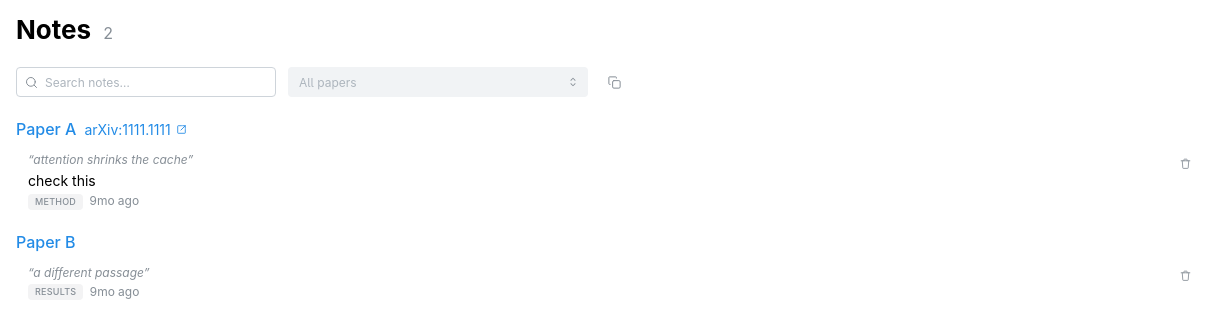
Scenario: NotesPage › filters by text across snippet and note
Expected: the link "Paper A" is shown, [16,117,76,142]
Type "check this" into the field labelled "Search notes".
click(146, 82); type("check this")  # box [16,67,276,97]
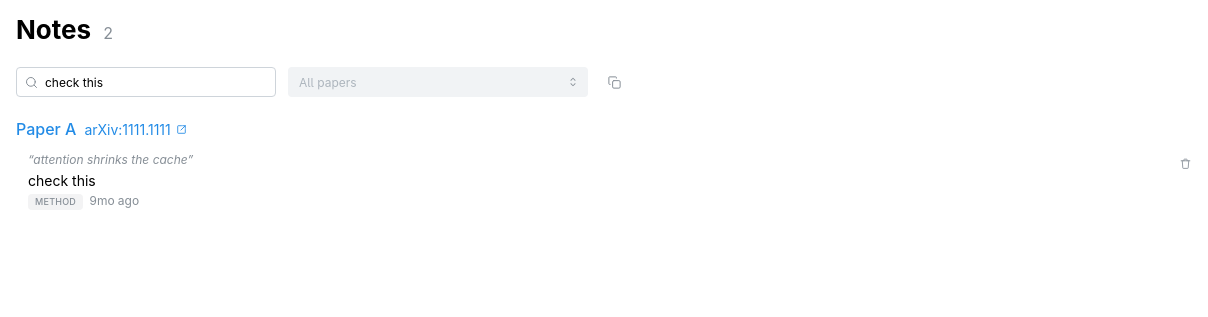
Expected: the text "“attention shrinks the cache”" is shown, [28,152,193,167]
Result: the button "a different passage" is gone
